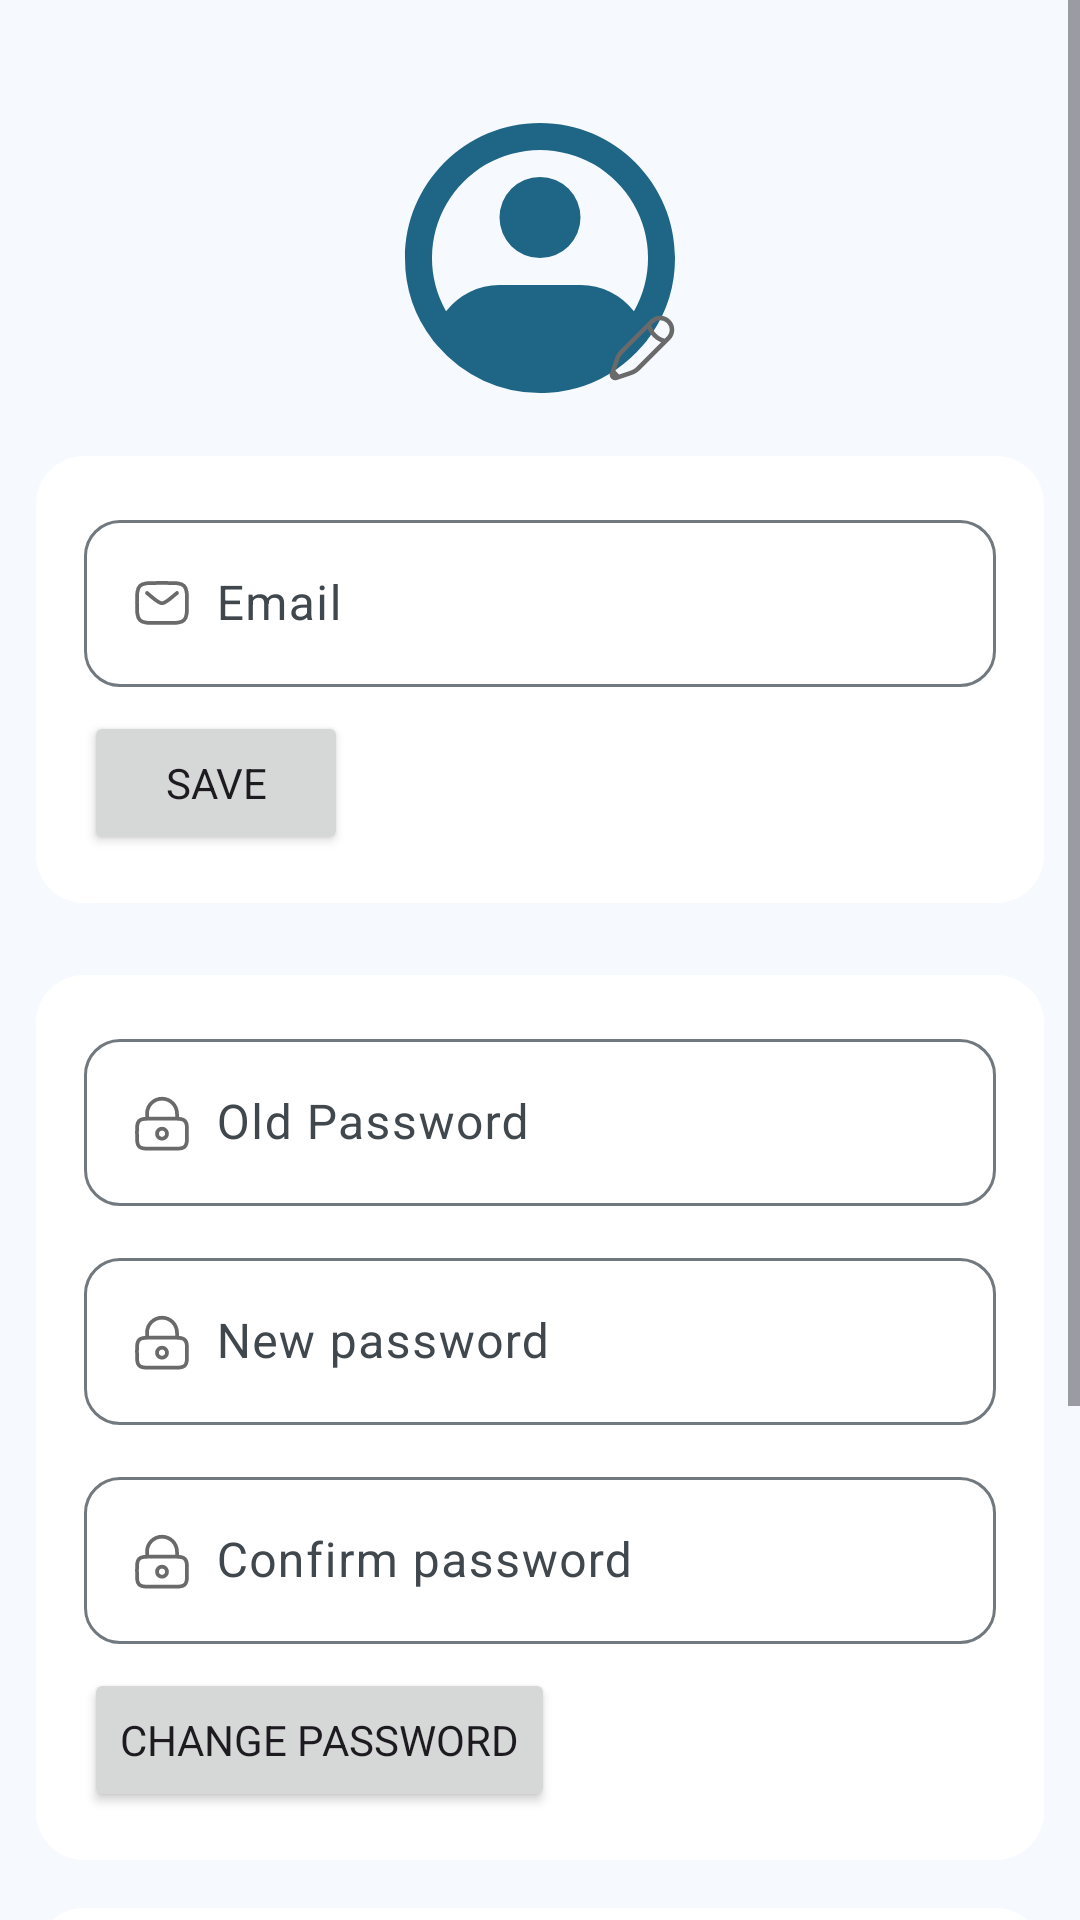

Where to tap for icons on this 1080x1920 app screen, as [x,y]:
profile: [540,258]
